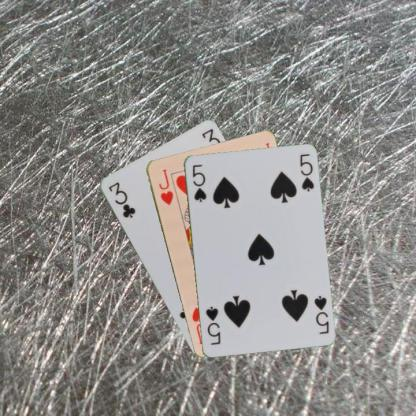3c: (106, 179, 136, 220)
5s: (311, 292, 330, 335), (190, 162, 208, 204)
Jh: (156, 166, 174, 206)
